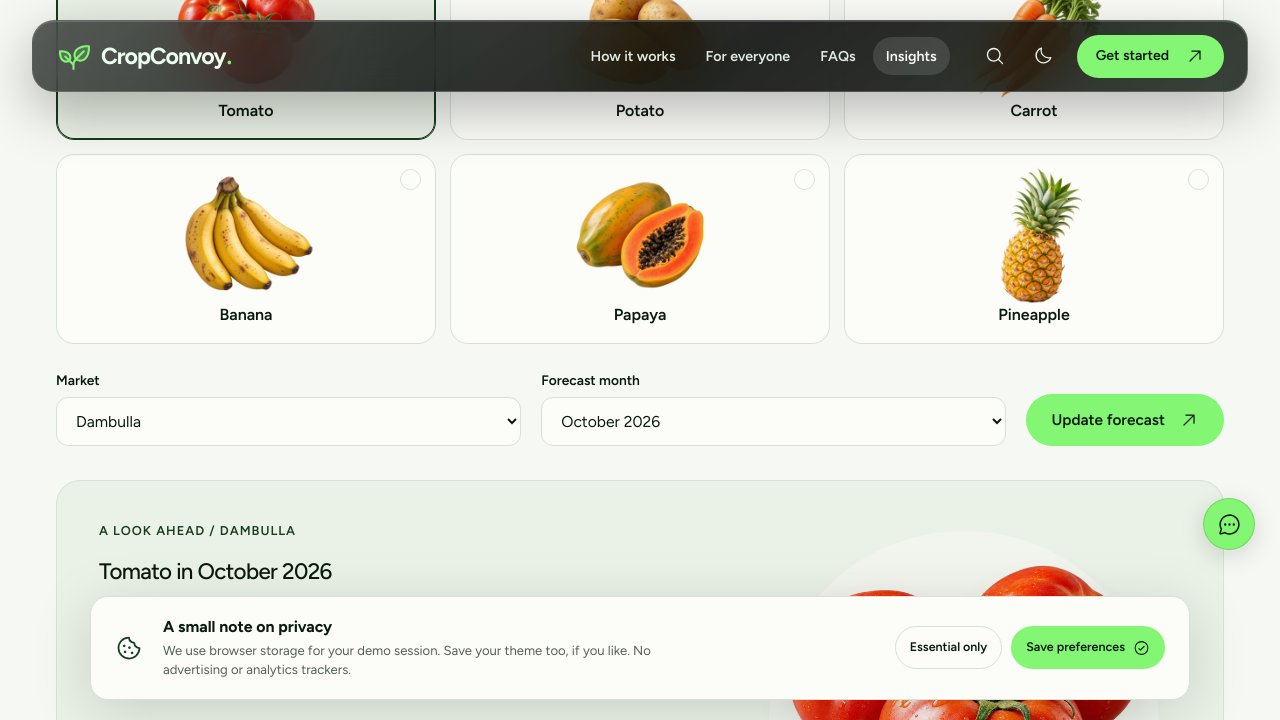
Test: Prediction demo › blocks duplicate submissions and identifies results for older inputs
This screenshot has width=1280, height=720.
(page scrolled)
Expected: the heading "Tomato in October 2026" is shown, top-left (99, 558), bottom-right (332, 585)
Click the button "Update forecast".
click(1125, 420)  # box top-left (1026, 394), bottom-right (1224, 446)
(page scrolled)
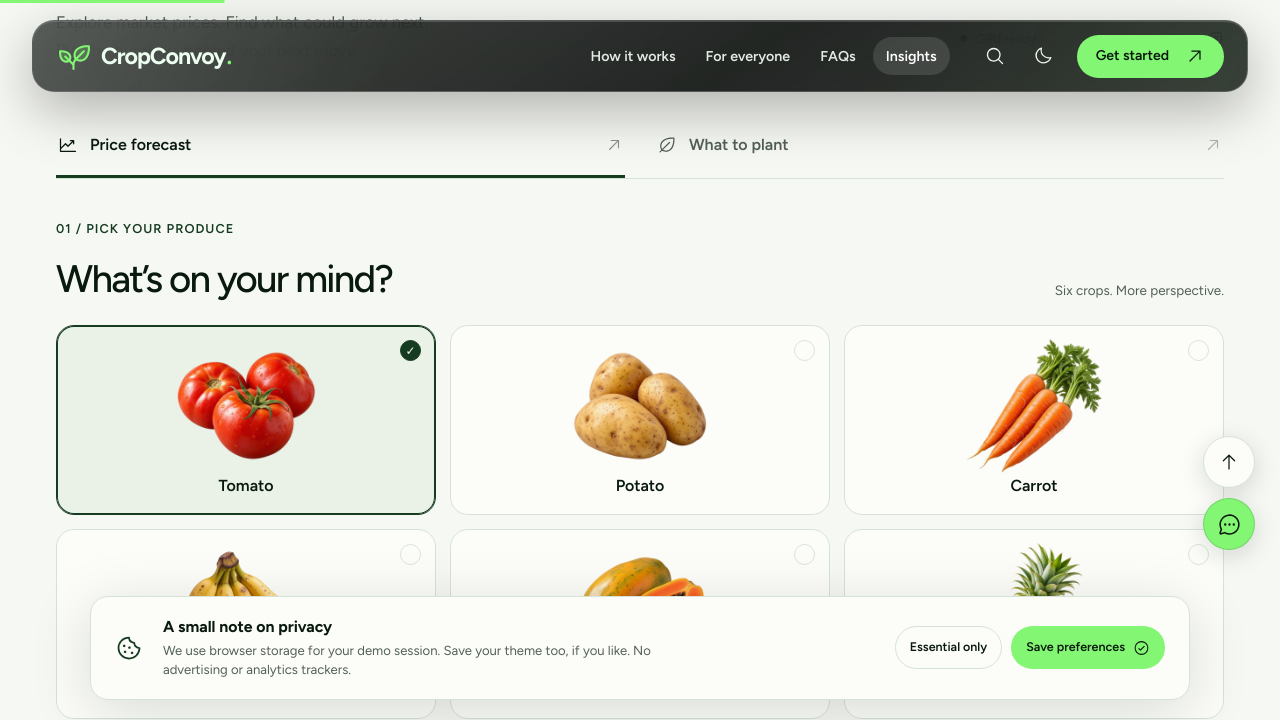
Click the radio button labelled "Carrot".
click(1034, 420)  # box top-left (844, 325), bottom-right (1224, 515)
(page scrolled)
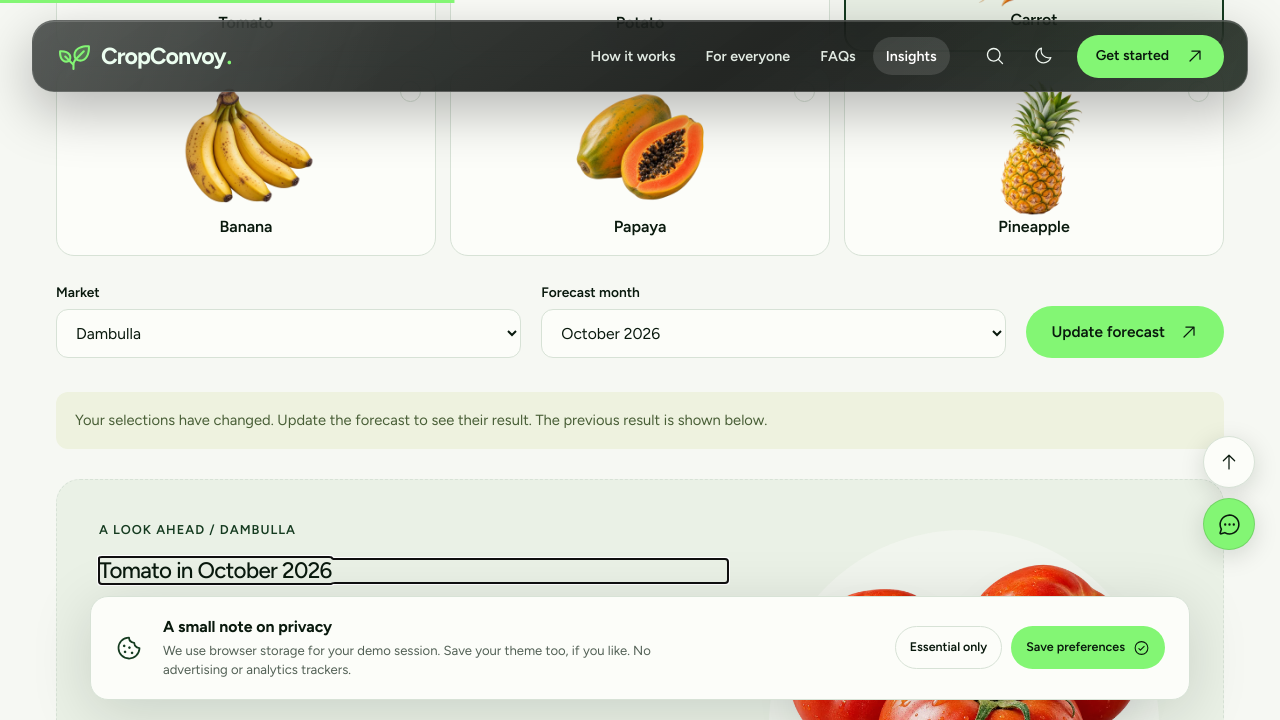
Expected: the heading "Tomato in October 2026" is shown, top-left (99, 557), bottom-right (332, 584)
Now the button "Update forecast" is enabled, box top-left (1026, 306), bottom-right (1224, 358)
Now the text "Your selections have changed" is shown, box top-left (75, 411), bottom-right (767, 429)
